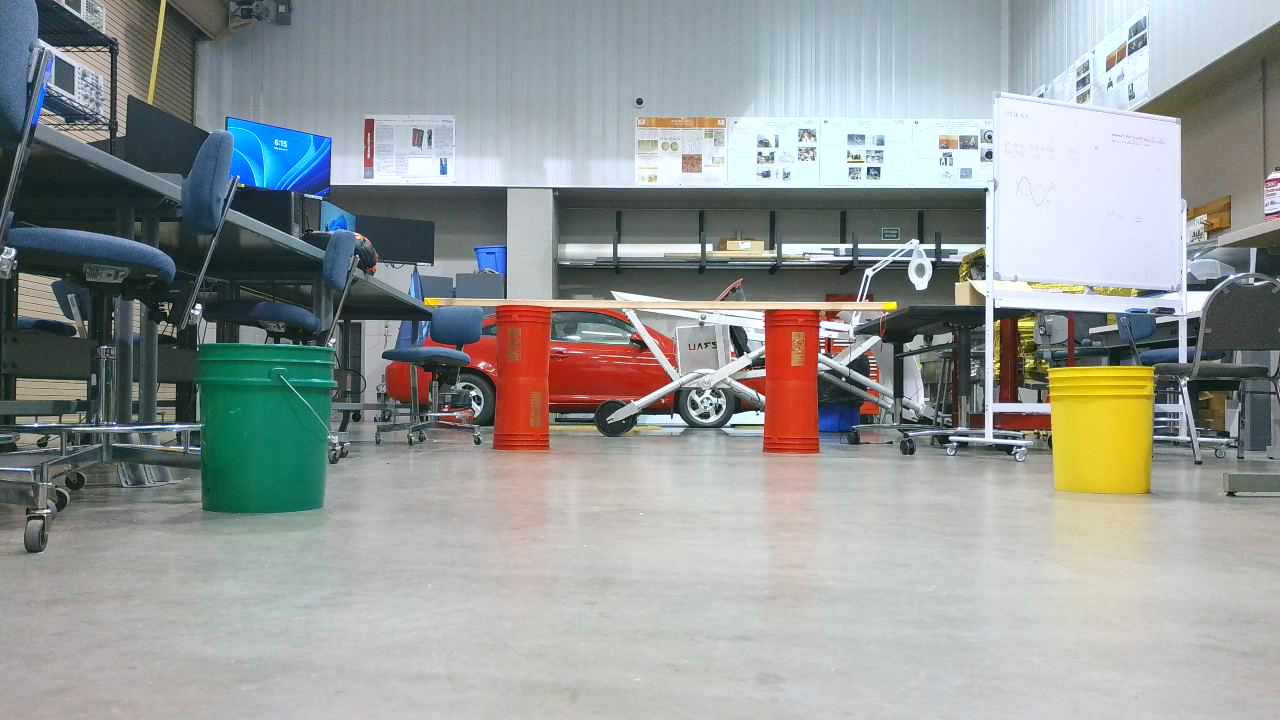green_bucket_barrier: (195, 344, 350, 525)
red_bucket_arch: (489, 300, 838, 465)
yellow_bucket: (1047, 366, 1167, 505)
